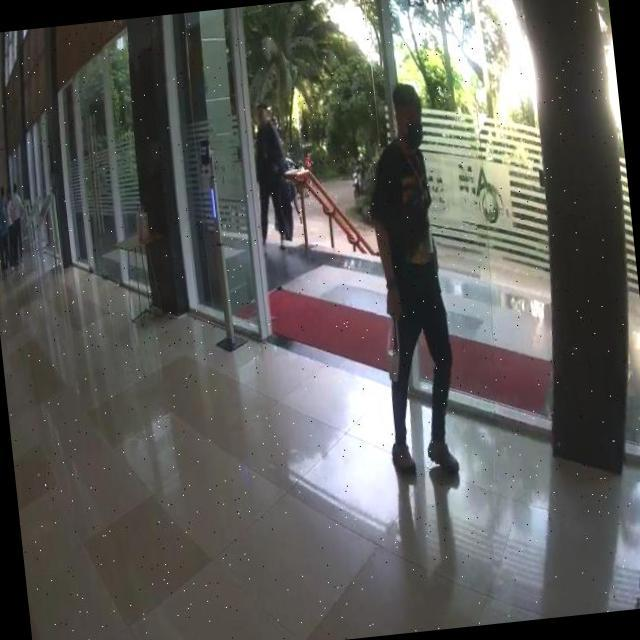person: (352, 81, 462, 480), (245, 102, 292, 256)
